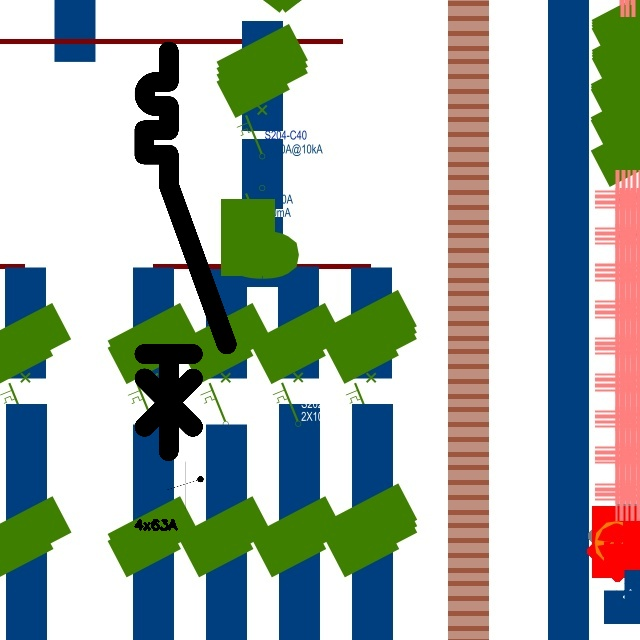interruptor_termomagnetico: (134, 41, 237, 462)
